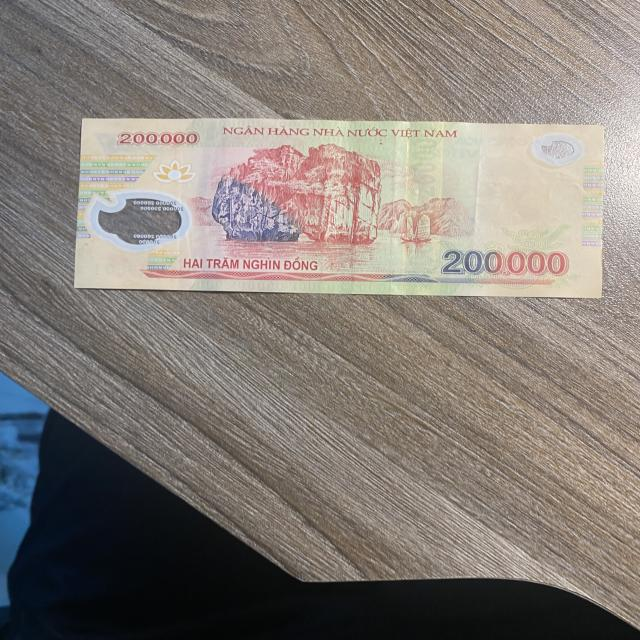200 000 VND: (68, 110, 621, 307)
